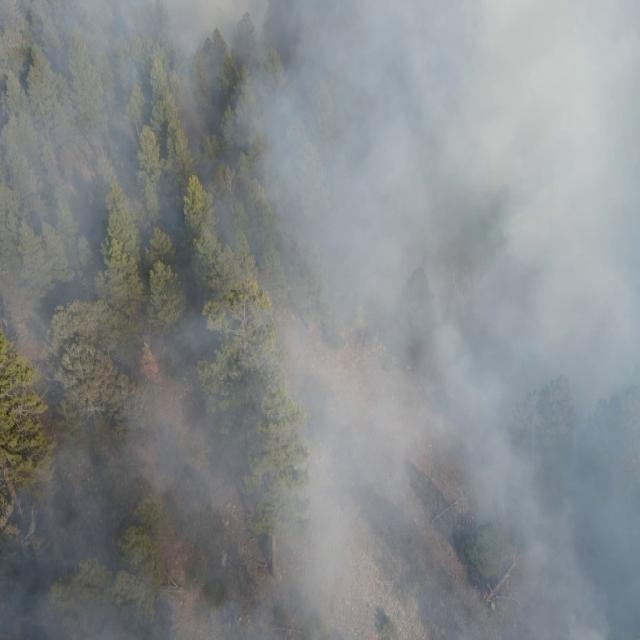fire: (482, 588, 492, 602)
smoke: (0, 0, 640, 339), (0, 494, 640, 640), (42, 338, 640, 492), (28, 337, 43, 401), (22, 472, 42, 494), (15, 338, 28, 364)
